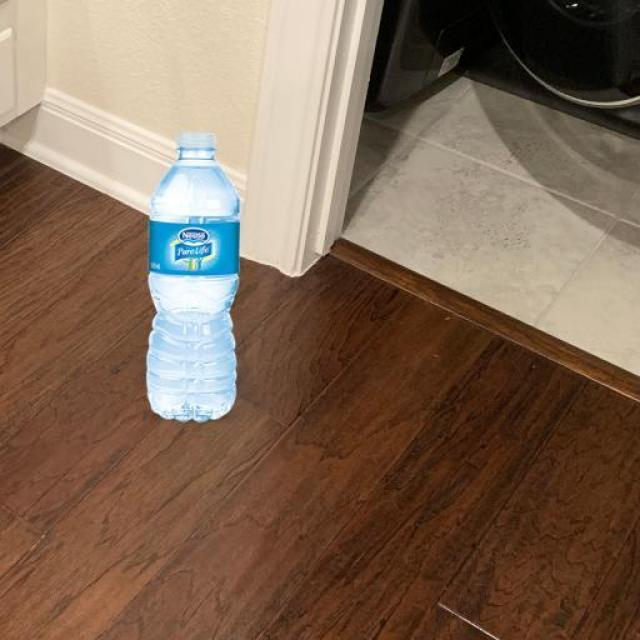bottle: (134, 125, 254, 438)
